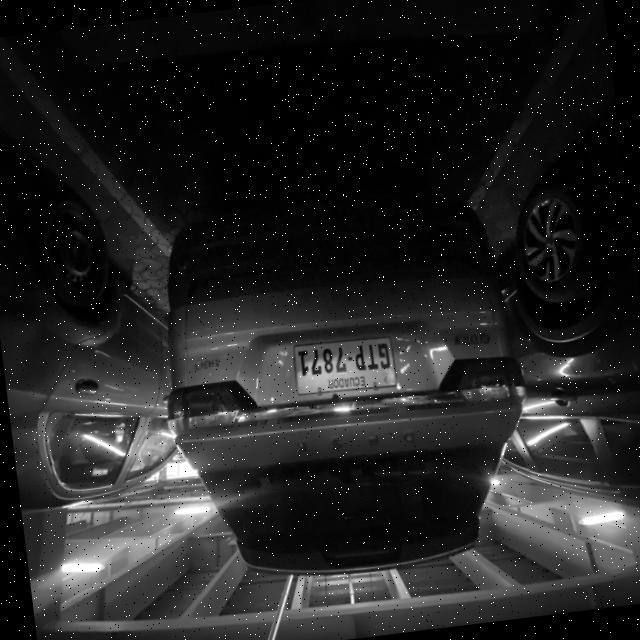Placa: (294, 337, 395, 393)
